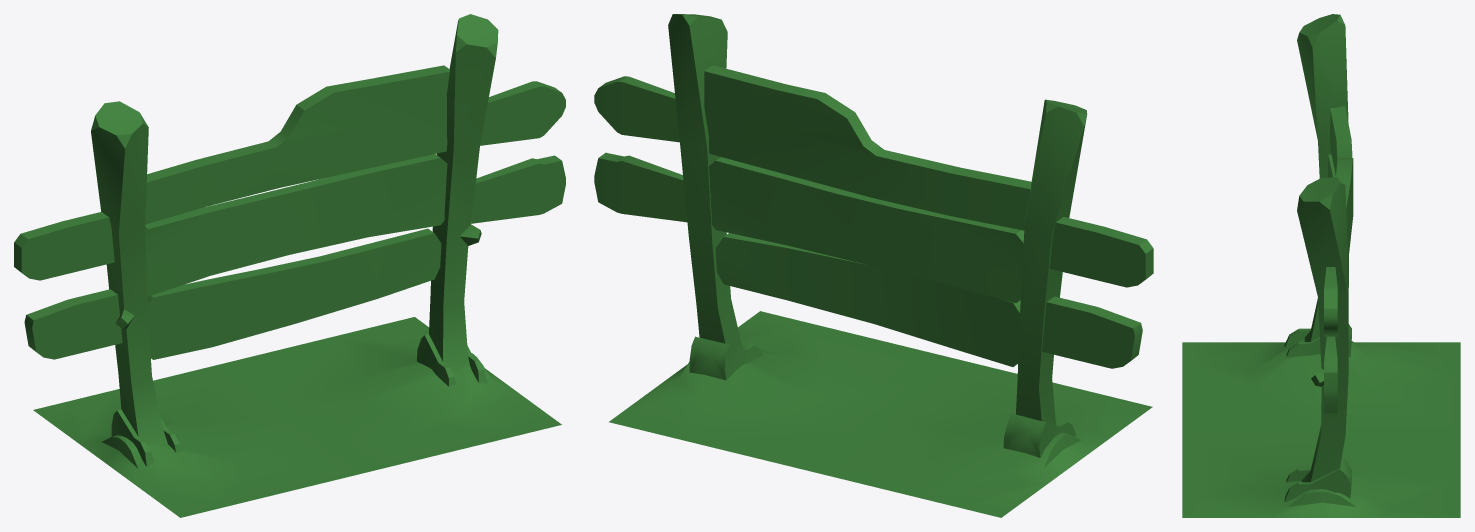
File: OBJ_Bulletin_02.FBX
3 views of the same model, side by side, from view 1: azimuth 30°, elevation 25°; view 2: azimuth 150°, elevation 25°; view 3: azimuth 270°, elevation 25° (orthographic). The views are drawn at different scales.
Parts seen in each view (by area): view 1: OBJ_Bulletin_02; view 2: OBJ_Bulletin_02; view 3: OBJ_Bulletin_02.
Part boxes in pixels (x1=…): OBJ_Bulletin_02: x1=14, y1=14, x2=565, y2=517; OBJ_Bulletin_02: x1=594, y1=14, x2=1153, y2=517; OBJ_Bulletin_02: x1=1182, y1=14, x2=1460, y2=517.
Bounding box in the file's own units: 25.37 × 15.79 × 12.
